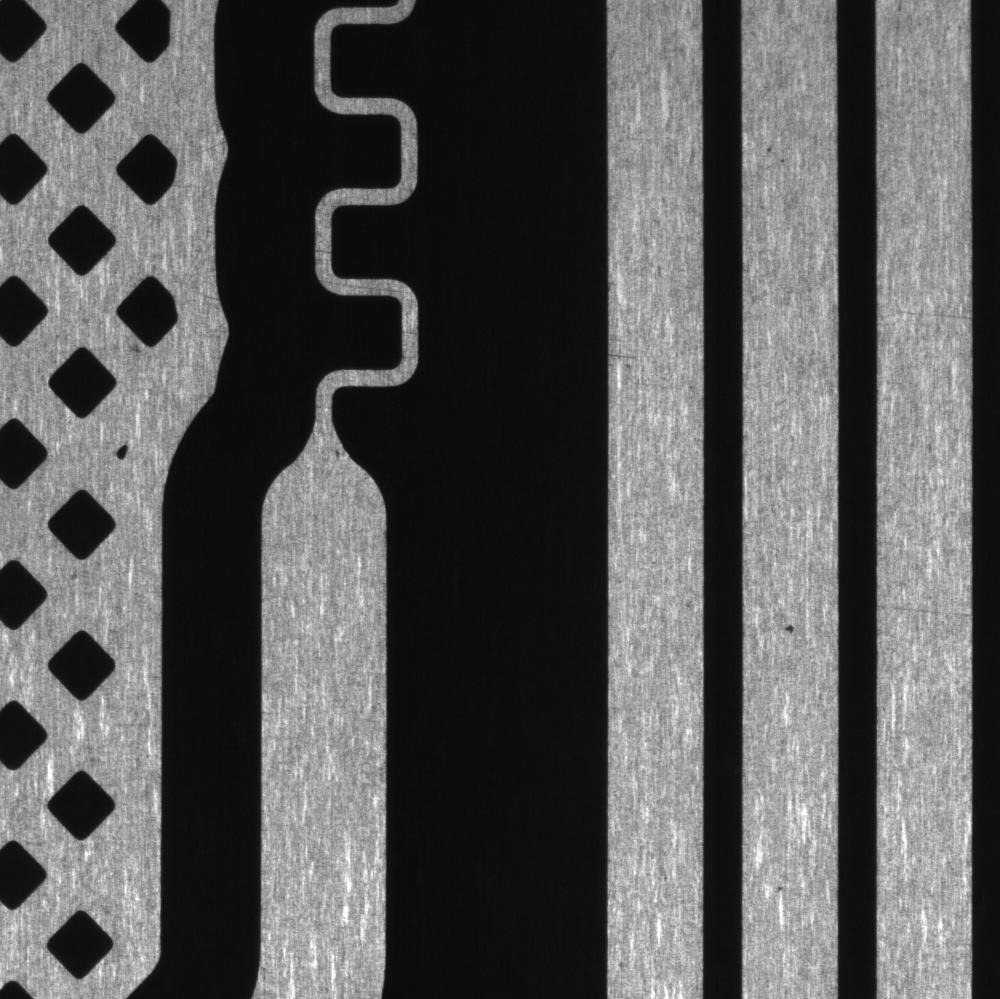Etching: (777, 610, 808, 649)
Scar: (875, 597, 975, 623), (882, 301, 971, 327), (608, 345, 641, 365)
